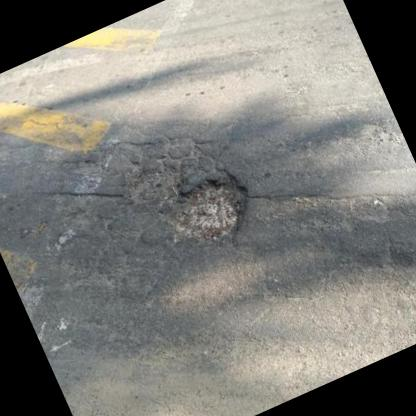pothole: (149, 159, 265, 262), (113, 152, 189, 214), (58, 147, 102, 185)
